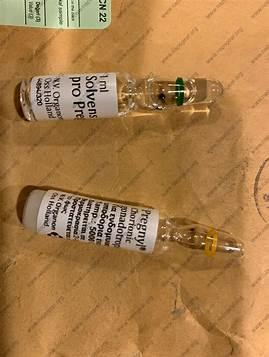Syringe: (10, 174, 253, 276), (8, 66, 231, 128)
